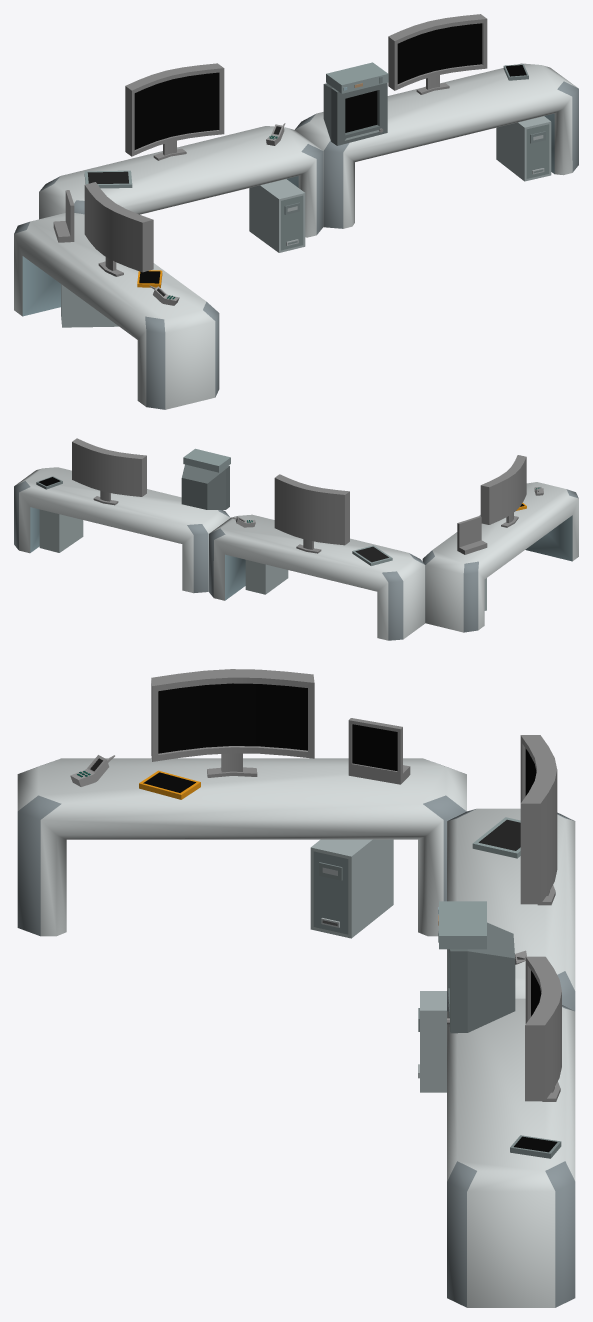
File: Computer-Tables.fbx
The picture shows the model from 3 angles, top to bottom: view 1: azimuth 30°, elevation 25°; view 2: azimuth 150°, elevation 25°; view 3: azimuth 270°, elevation 25°; orthographic projection. The views are drawn at different scales.
Visible parts, largest first — view 1: Computer-Table-4.001, Computer-Table-4.002, Computer-Table-4, Computer-Screen-5, Computer-Screen-6, Computer-Screen-4, Computer-Case-2, Computer-Screen-10, Computer-Case-1, Computer-Case-3, Computer-Part, Tablet-Computer-2 (+1 smaller); view 2: Computer-Table-4, Computer-Table-4.001, Computer-Table-4.002, Computer-Screen-5, Computer-Screen-6, Computer-Screen-4, Computer-Screen-10, Computer-Case-1, Computer-Case-2, Computer-Screen-11, Computer-Part, Tablet-Computer-2; view 3: Computer-Table-4.001, Computer-Table-4.002, Computer-Screen-4, Computer-Table-4, Computer-Case-3, Computer-Screen-5, Computer-Screen-10, Computer-Screen-6, Computer-Screen-11, Computer-Case-2, Computer-Part, Tablet-Computer-2 (+2 smaller).
Boxes of the visible parts, left/top/right/bottom form: Computer-Table-4.001: left=14, top=213, right=219, bottom=409; Computer-Table-4.002: left=295, top=63, right=578, bottom=228; Computer-Table-4: left=39, top=126, right=323, bottom=237; Computer-Screen-5: left=125, top=63, right=224, bottom=160; Computer-Screen-6: left=388, top=14, right=487, bottom=94; Computer-Screen-4: left=84, top=182, right=153, bottom=276; Computer-Case-2: left=249, top=179, right=305, bottom=252; Computer-Screen-10: left=323, top=83, right=387, bottom=145; Computer-Case-1: left=496, top=116, right=551, bottom=181; Computer-Case-3: left=61, top=284, right=118, bottom=327; Computer-Part: left=326, top=62, right=388, bottom=93; Tablet-Computer-2: left=84, top=170, right=132, bottom=188; Computer-Table-4: left=209, top=514, right=425, bottom=640; Computer-Table-4.001: left=422, top=482, right=578, bottom=632; Computer-Table-4.002: left=14, top=467, right=230, bottom=593; Computer-Screen-5: left=274, top=474, right=349, bottom=553; Computer-Screen-6: left=72, top=438, right=146, bottom=505; Computer-Screen-4: left=480, top=455, right=526, bottom=527; Computer-Screen-10: left=181, top=464, right=229, bottom=509; Computer-Case-1: left=39, top=509, right=83, bottom=552; Computer-Case-2: left=245, top=560, right=288, bottom=594; Computer-Screen-11: left=457, top=516, right=487, bottom=554; Computer-Part: left=183, top=448, right=230, bottom=472; Tablet-Computer-2: left=352, top=545, right=392, bottom=565; Computer-Table-4.001: left=17, top=758, right=466, bottom=936; Computer-Table-4.002: left=447, top=998, right=575, bottom=1307; Computer-Screen-4: left=151, top=669, right=314, bottom=777; Computer-Table-4: left=447, top=808, right=575, bottom=1011; Computer-Case-3: left=310, top=839, right=393, bottom=938; Computer-Screen-5: left=520, top=735, right=557, bottom=905; Computer-Screen-10: left=447, top=922, right=515, bottom=1033; Computer-Screen-6: left=525, top=956, right=561, bottom=1101; Computer-Screen-11: left=348, top=718, right=410, bottom=784; Computer-Case-2: left=418, top=991, right=446, bottom=1092; Computer-Part: left=438, top=901, right=486, bottom=949; Tablet-Computer-2: left=472, top=817, right=520, bottom=858.
Bounding box in the file's own units: 4.58 × 1.27 × 2.54.
